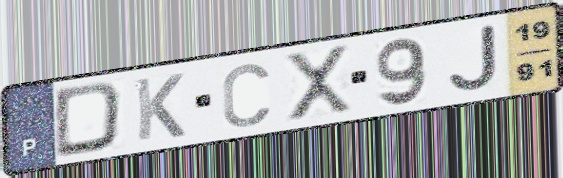9: (373, 35, 429, 107)
C: (219, 61, 272, 131)
D: (52, 79, 126, 160)
J: (446, 22, 500, 94)
K: (132, 71, 188, 144)
X: (282, 42, 356, 124)
